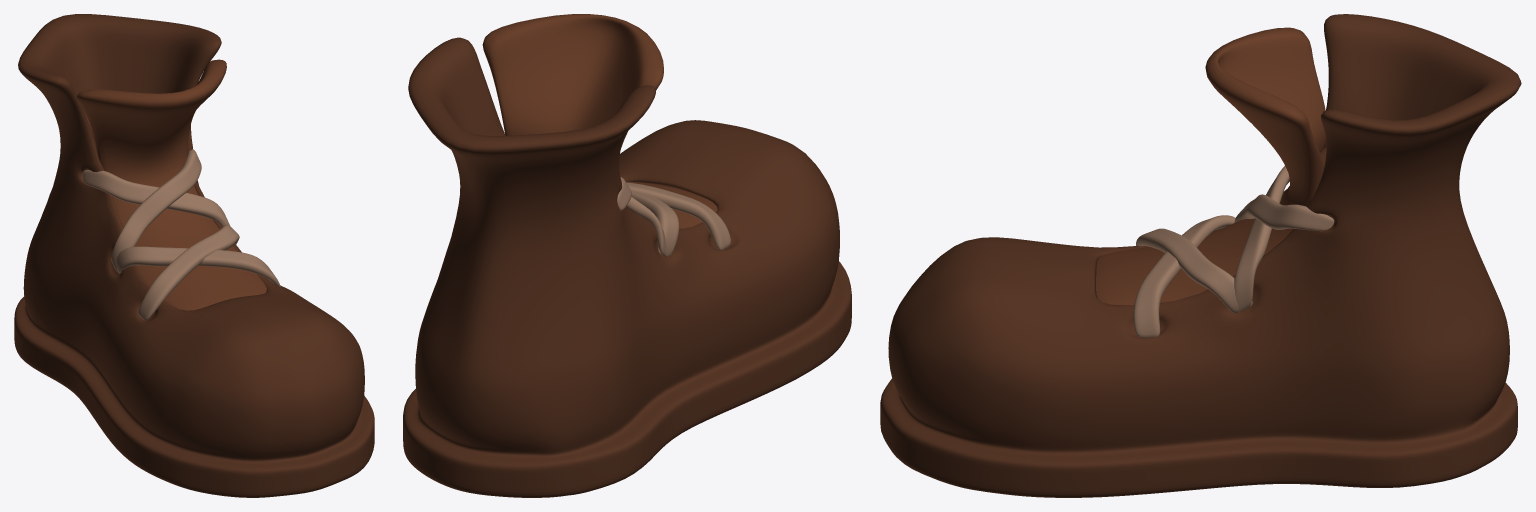
File: toon_shoe.glb
The picture shows the model from 3 angles, left to right: view 1: azimuth 30°, elevation 25°; view 2: azimuth 150°, elevation 25°; view 3: azimuth 270°, elevation 25°; orthographic projection. The views are drawn at different scales.
Parts seen in each view (by area): view 1: Plane.024; view 2: Plane.024; view 3: Plane.024.
Boxes of the visible parts, <box> form: Plane.024: <box>14,14,374,497</box>; Plane.024: <box>403,14,851,497</box>; Plane.024: <box>880,14,1521,497</box>.
Bounding box in the file's own units: 0.1101 × 0.1444 × 0.2227.
